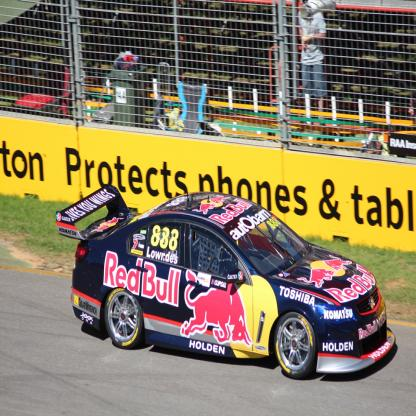Car: (57, 185, 396, 375)
